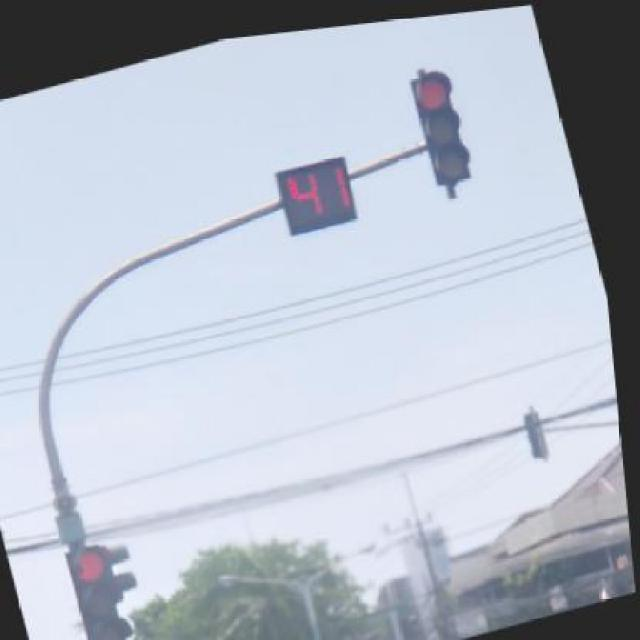red_light: (409, 68, 468, 196), (64, 544, 134, 638)
